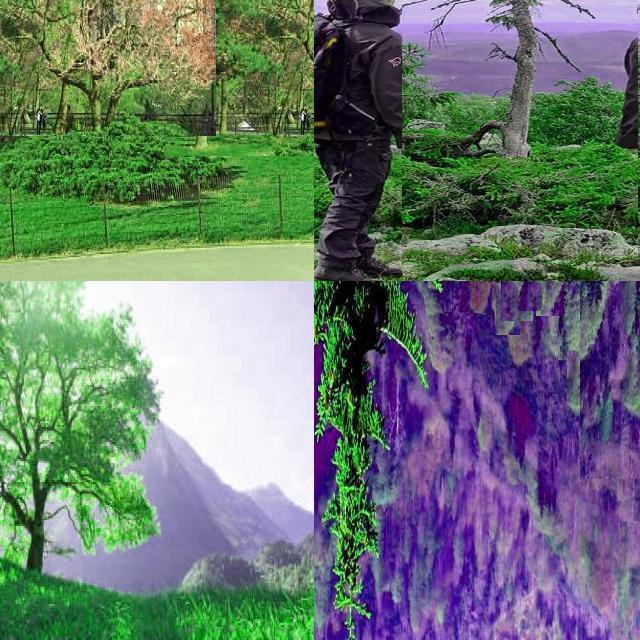tree: (402, 0, 638, 260), (0, 282, 172, 582), (314, 280, 450, 640), (0, 0, 216, 136), (166, 0, 314, 156), (580, 281, 640, 479), (236, 9, 314, 142), (413, 76, 503, 148), (598, 26, 640, 154), (620, 521, 640, 637), (558, 280, 586, 360), (614, 282, 640, 366), (567, 351, 597, 421), (314, 555, 338, 635), (624, 456, 640, 572), (620, 281, 640, 349), (509, 314, 535, 366), (501, 281, 533, 321), (496, 283, 520, 335), (563, 281, 595, 319), (620, 282, 640, 342), (628, 488, 640, 580), (626, 334, 640, 406), (536, 280, 564, 316), (608, 395, 628, 445), (474, 280, 498, 320), (626, 281, 640, 347), (596, 281, 622, 315), (444, 280, 468, 312), (518, 281, 542, 311), (470, 281, 492, 313)
